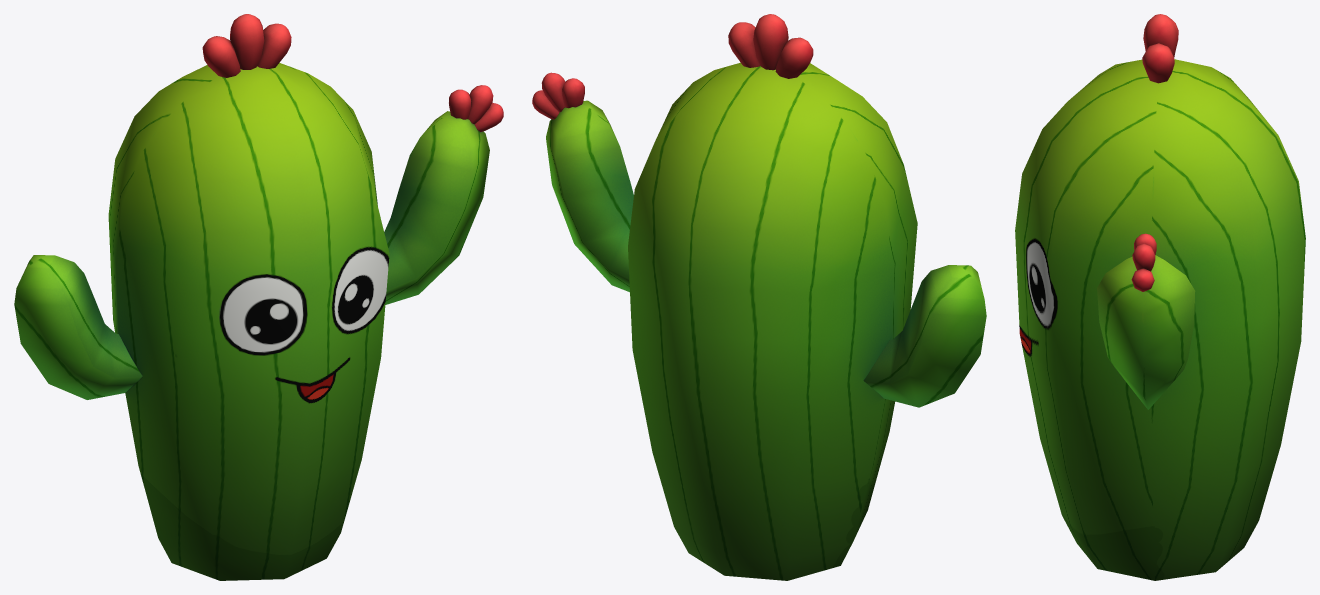
File: Kaktus_texture.fbx
3 views of the same model, side by side, from view 1: azimuth 30°, elevation 25°; view 2: azimuth 150°, elevation 25°; view 3: azimuth 270°, elevation 25° (orthographic).
Visible parts, largest first — view 1: Cylinder, BezierCurve, BezierCurve.002, Cylinder.002, Cylinder.001, Cylinder.004, Cylinder.003; view 2: Cylinder, BezierCurve, BezierCurve.002, Cylinder.002, Cylinder.001, Cylinder.004, Cylinder.003; view 3: Cylinder, BezierCurve, Cylinder.002, Cylinder.001, Cylinder.004, Cylinder.003.
Part boxes in pixels (left/top/right/bottom): Cylinder: left=108, top=63, right=389, bottom=580; BezierCurve: left=384, top=111, right=489, bottom=304; BezierCurve.002: left=14, top=255, right=142, bottom=399; Cylinder.002: left=202, top=23, right=291, bottom=77; Cylinder.001: left=230, top=14, right=264, bottom=69; Cylinder.004: left=449, top=89, right=503, bottom=131; Cylinder.003: left=468, top=85, right=493, bottom=124; Cylinder: left=628, top=62, right=917, bottom=580; BezierCurve: left=546, top=100, right=633, bottom=292; BezierCurve.002: left=863, top=265, right=986, bottom=407; Cylinder.002: left=728, top=22, right=813, bottom=78; Cylinder.001: left=753, top=14, right=788, bottom=70; Cylinder.004: left=532, top=78, right=584, bottom=119; Cylinder.003: left=541, top=72, right=565, bottom=112; Cylinder: left=1015, top=59, right=1305, bottom=580; BezierCurve: left=1097, top=255, right=1195, bottom=409; Cylinder.002: left=1142, top=18, right=1178, bottom=83; Cylinder.001: left=1143, top=14, right=1177, bottom=57; Cylinder.004: left=1131, top=233, right=1156, bottom=291; Cylinder.003: left=1132, top=243, right=1155, bottom=271.
Bounding box in the file's own units: 349 × 377 × 187.
